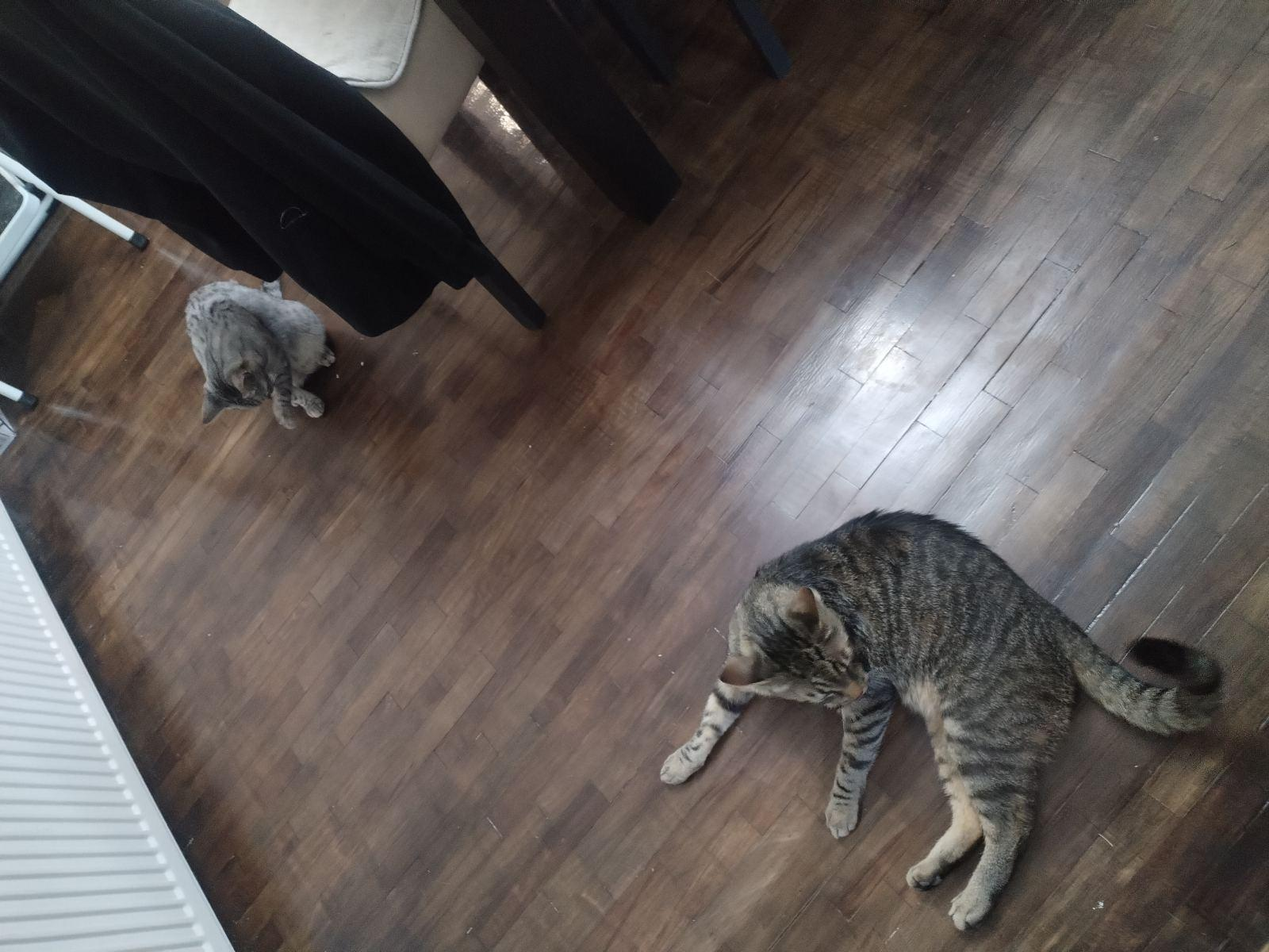macka: (663, 508, 1225, 933), (180, 275, 341, 435)
